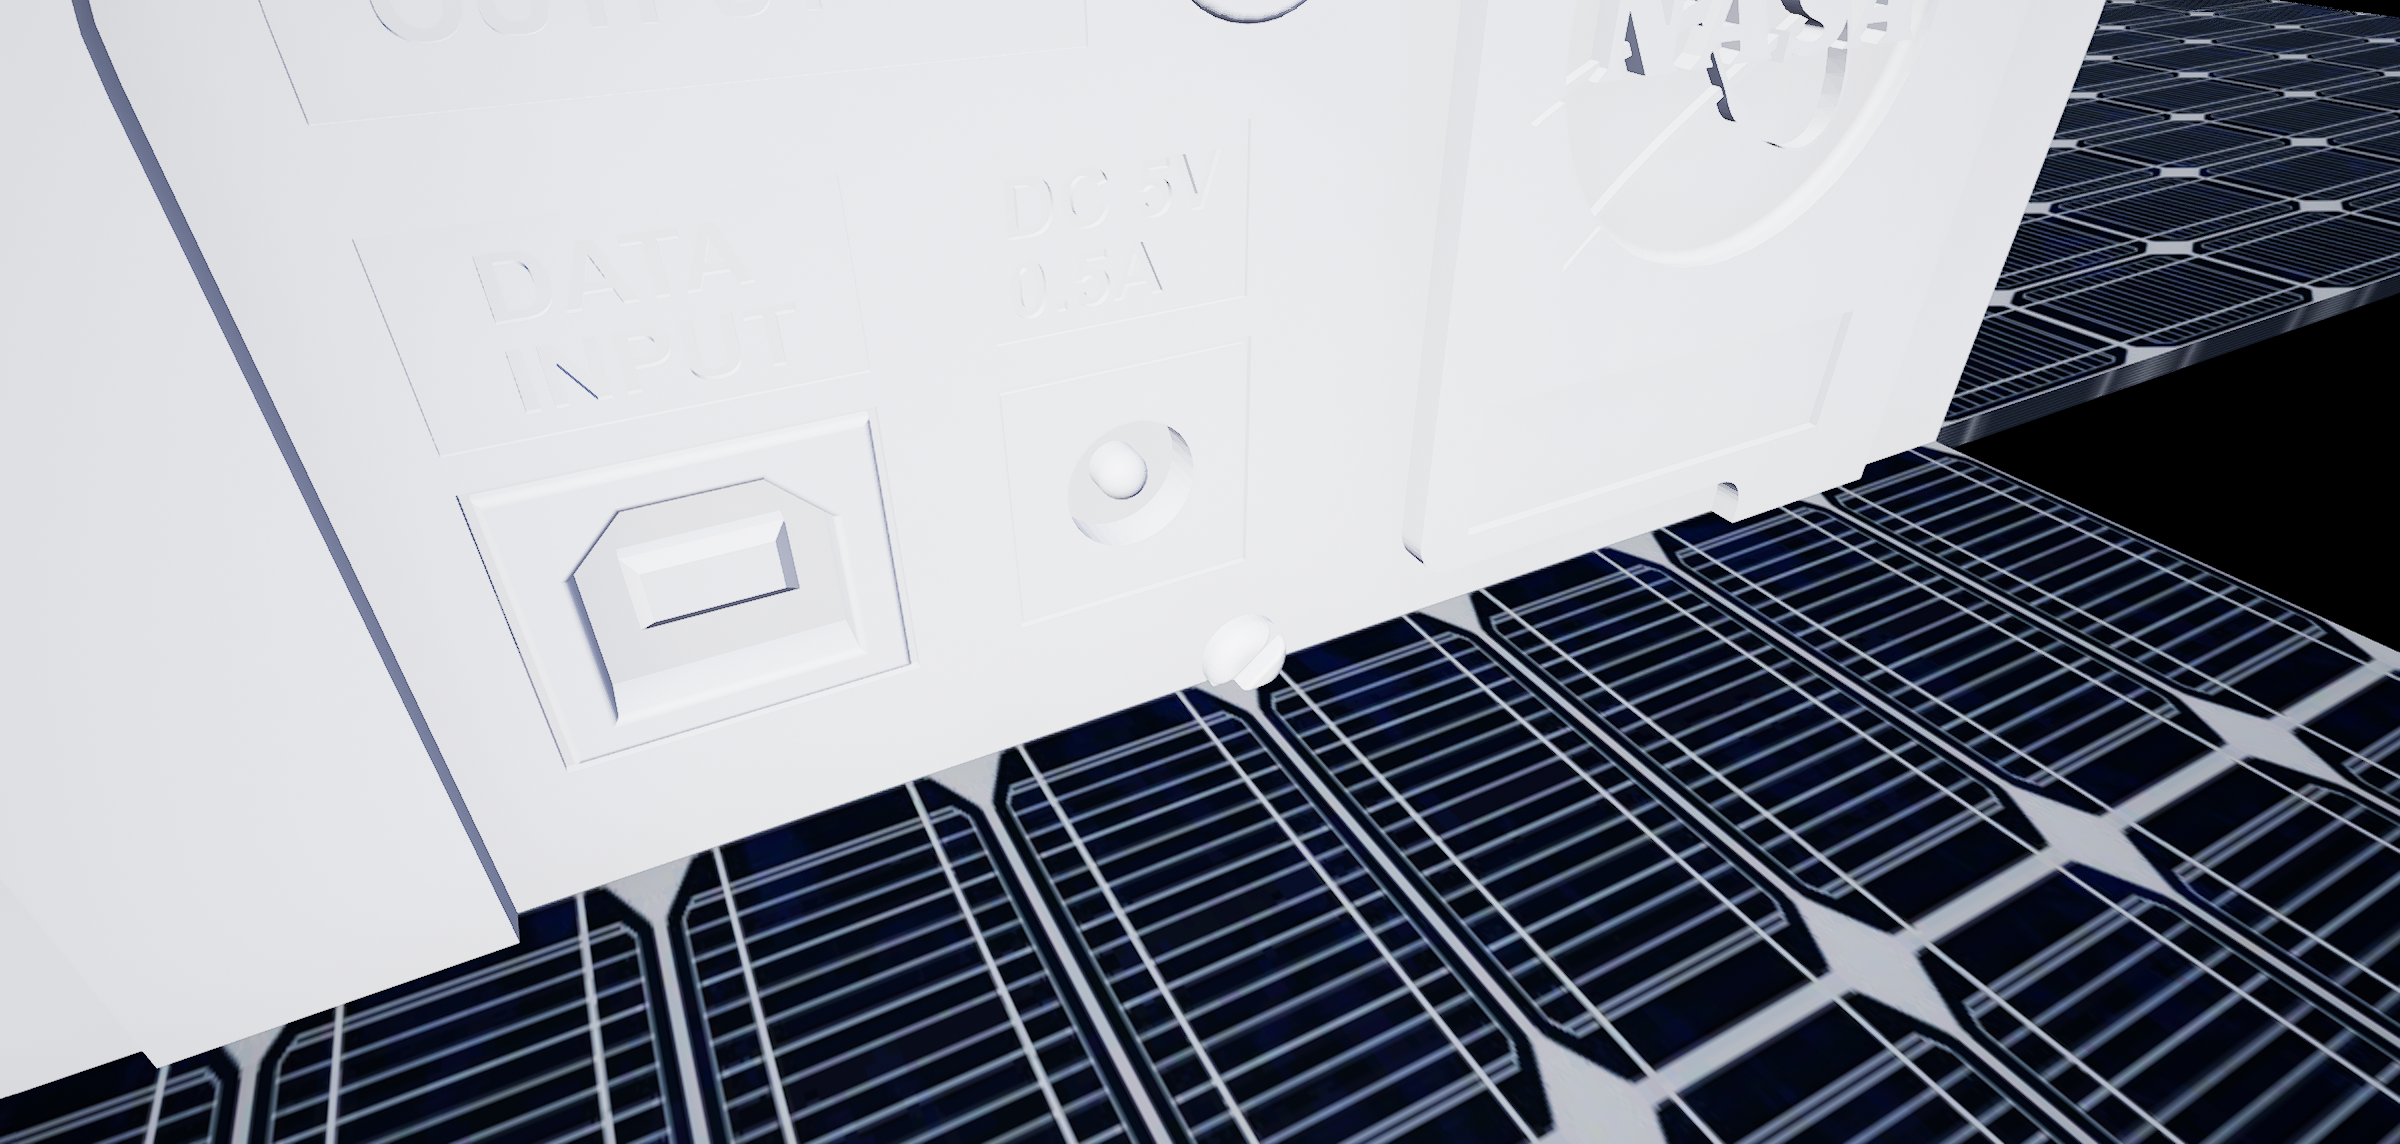dc: (1042, 417, 1217, 561)
usb: (527, 496, 898, 723)
